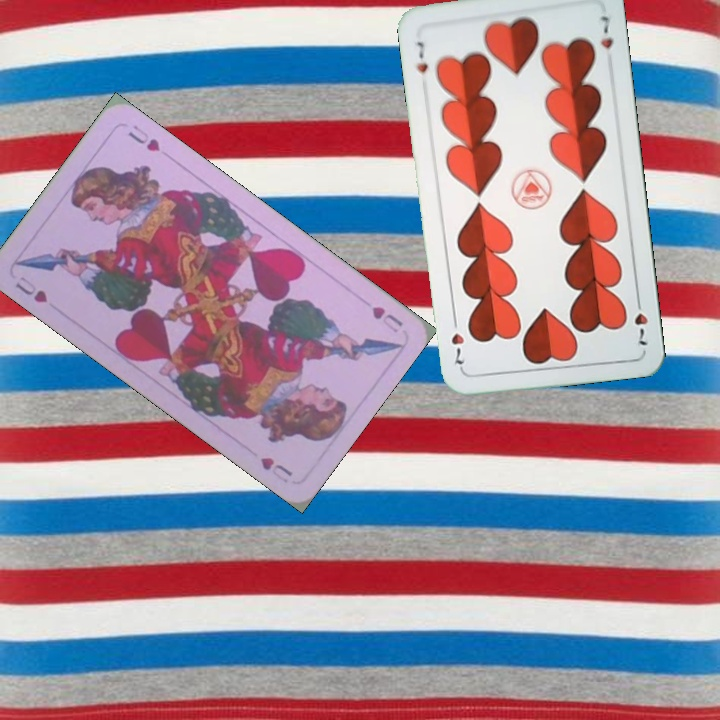H7: (630, 292, 651, 349), (413, 37, 431, 75)
HU: (11, 271, 50, 306), (368, 302, 405, 336)
